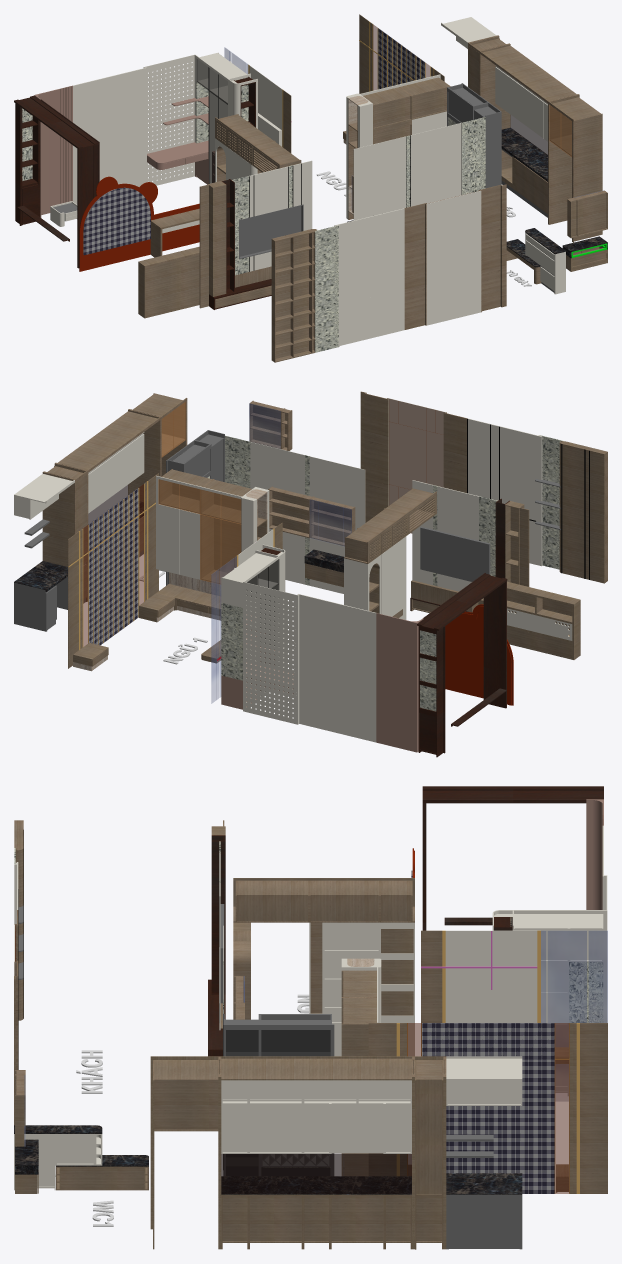
3 views of the same model, one above another, from view 1: azimuth 30°, elevation 25°; view 2: azimuth 150°, elevation 25°; view 3: azimuth 270°, elevation 25° (orthographic). The views are drawn at different scales.
Parts seen in each view (by area): view 1: G-BCOA1_Vách_phải_18_KTV, G-BCOA1_Ốp_vách_07_NGỦ2, G-BCOA1_Ốp_vách_09_NGỦ2, G-BCOA1_Vách_trái_02_KTV, G-BCOA1_Vách_trái_08_KTV, G-BCOA1_Vách_phải_14_KTV, G-BCOA1_Hậu_NGỦ3T12, G-BCOA1_Mặt_hoàn_thiện_KTVVách_phải_22, G-BCOA1_Vách_phải_27_KTV, G-BCOA1_Hậu_KTVKệ_tivi, G-BCOA1_Vách_phải_12_KTV, G-BCOA1_Vách_đầu_giường_05_NGỦ3 (+59 smaller); view 2: G-BCOA1_Ốp_vách_09_NGỦ2, G-BCOA1_Ốp_vách_07_NGỦ2, G-BCOA1_Vách_phải_18_KTV, G-BCOA1_Mặt_hoàn_thiện_KTVVách_phải_22, G-BCOA1_Vách_phải_14_KTV, G-BCOA1_Hậu_KTVKệ_tivi, G-BCOA1_Vách_trái_02_KTV, G-BCOA1_Hậu_02_NGỦ2Ốp_vách_10, G-BCOA1_Vách_trái_08_KTV, G-BCOA1_Vách_phải_19_KTV, G-BCOA1_Ốp_vách_04_NGỦ2, G-BCOA1_Hông_trái_hoàn_thiện_trên_01_BẾPT3T4 (+92 smaller); view 3: G-BCOA1_Kính_ốp_vách_BẾP, G-BCOA1_Gương_ốp_vách_04_NGỦ1, G-BCOA1_Vách_ốp_01_NGỦ1, G-BCOA1_Hậu_BẾPT1, G-Object087, G-BCOA1_Hậu_BẾPT15, G-BCOA1_Hậu_BẾPT3, G-BCOA1_Hậu_NGỦ1TVP, G-BCOA1_Hậu_BẾPT8, G-BCOA1_Hậu_BẾPT10, G-BCOA1_Hậu_NGỦ3T7, G-BCOA1_Hậu_BẾPT12 (+70 smaller).
Boxes of the visible parts, x1,y1,x2,y2 form: G-BCOA1_Vách_phải_18_KTV: (426,190,481,284); G-BCOA1_Ốp_vách_07_NGỦ2: (145,54,194,153); G-BCOA1_Ốp_vách_09_NGỦ2: (73,73,125,173); G-BCOA1_Vách_trái_02_KTV: (353,136,405,220); G-BCOA1_Vách_trái_08_KTV: (411,123,461,206); G-BCOA1_Vách_phải_14_KTV: (334,216,374,304); G-BCOA1_Hậu_NGỦ3T12: (146,254,199,317); G-BCOA1_Mặt_hoàn_thiện_KTVVách_phải_22: (271,229,316,319); G-BCOA1_Vách_phải_27_KTV: (426,271,481,325); G-BCOA1_Hậu_KTVKệ_tivi: (240,206,301,256); G-BCOA1_Vách_phải_12_KTV: (315,225,338,311); G-BCOA1_Vách_đầu_giường_05_NGỦ3: (83,189,117,255); G-BCOA1_Ốp_vách_09_NGỦ2: (320,599,376,705); G-BCOA1_Ốp_vách_07_NGỦ2: (243,582,297,687); G-BCOA1_Vách_phải_18_KTV: (388,398,445,489); G-BCOA1_Mặt_hoàn_thiện_KTVVách_phải_22: (559,441,604,539); G-BCOA1_Vách_phải_14_KTV: (500,426,542,522); G-BCOA1_Hậu_KTVKệ_tivi: (420,527,489,581); G-BCOA1_Vách_trái_02_KTV: (309,456,365,550); G-BCOA1_Hậu_02_NGỦ2Ốp_vách_10: (391,617,416,715); G-BCOA1_Vách_trái_08_KTV: (250,442,304,540); G-BCOA1_Vách_phải_19_KTV: (364,393,388,484); G-BCOA1_Ốp_vách_04_NGỦ2: (320,693,376,742); G-BCOA1_Hông_trái_hoàn_thiện_trên_01_BẾPT3T4: (42,472,74,566); G-BCOA1_Kính_ốp_vách_BẾP: (221,1153,411,1193); G-BCOA1_Gương_ốp_vách_04_NGỦ1: (548,931,586,1101); G-BCOA1_Vách_ốp_01_NGỦ1: (580,1059,607,1193); G-BCOA1_Hậu_BẾPT1: (449,1196,519,1248); G-Object087: (221,1176,411,1194); G-BCOA1_Hậu_BẾPT15: (154,1079,218,1129); G-BCOA1_Hậu_BẾPT3: (416,1079,441,1194); G-BCOA1_Hậu_NGỦ1TVP: (448,989,535,1022); G-BCOA1_Hậu_BẾPT8: (331,1102,383,1153); G-BCOA1_Hậu_BẾPT10: (250,1103,301,1152); G-BCOA1_Hậu_NGỦ3T7: (381,929,413,1015); G-BCOA1_Hậu_BẾPT12: (331,1196,383,1241).
Bounding box in the file's own units: 10.01 × 2.7 × 8.43.
Materials: 21 (7 with a texture image).
